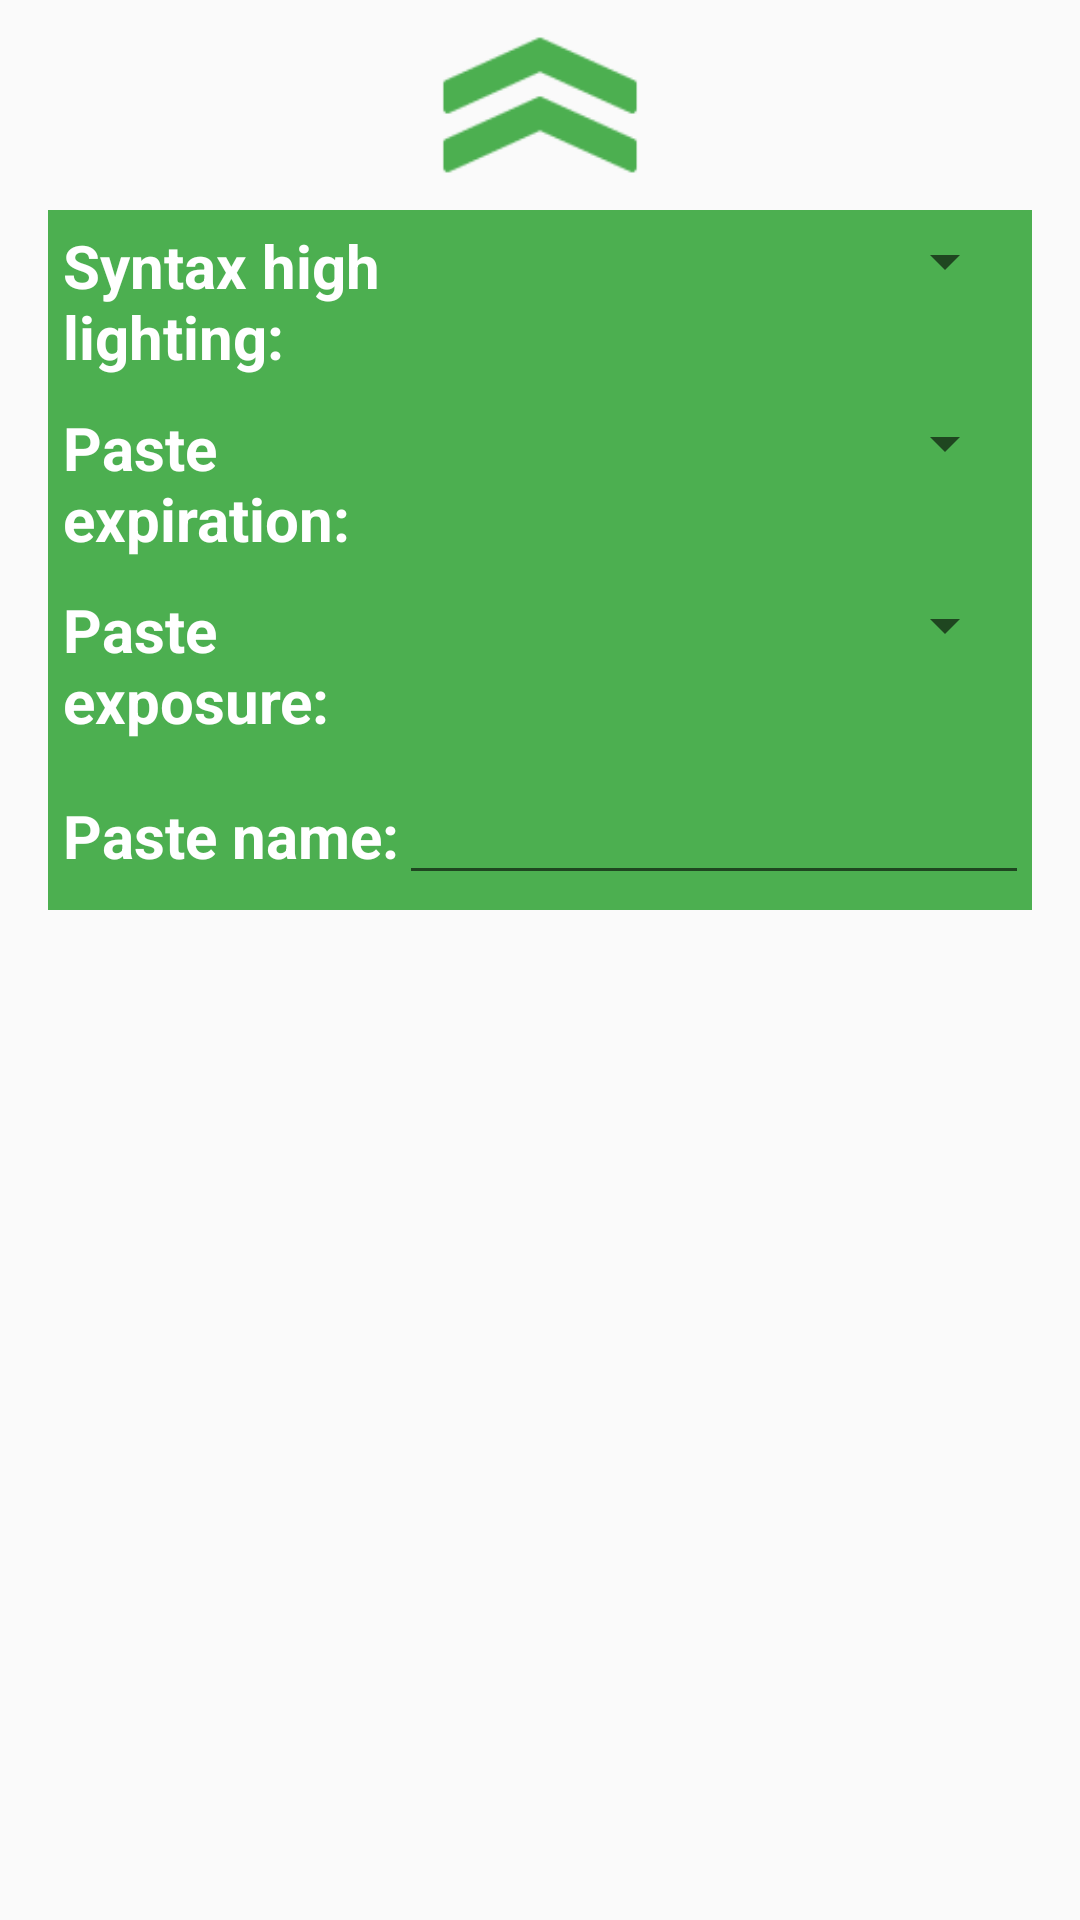

Point at icon controls on the screen. Image size 1080 × 1920, points as point (x, y).
arrow up: point (540, 105)
